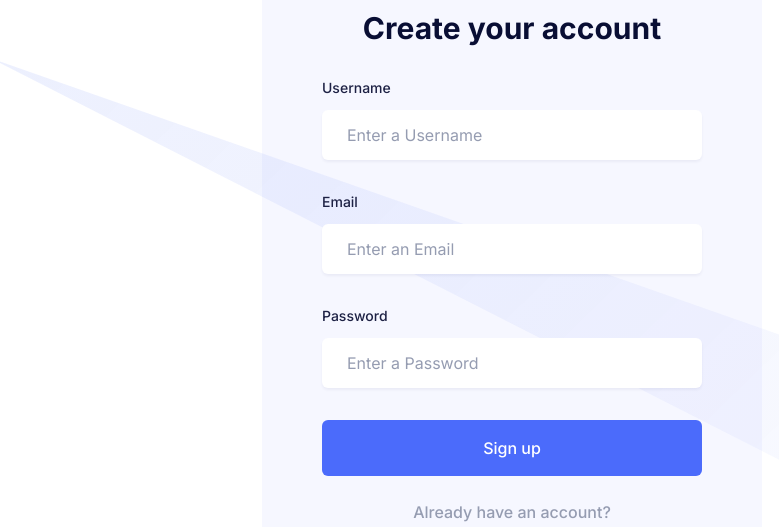
Test: Sign in functionality › Should show error message if one occurs in the signin
This screenshot has width=779, height=527.
Type "testuser" into the field labelled "Username" at (512, 135), box [322,110,702,160]
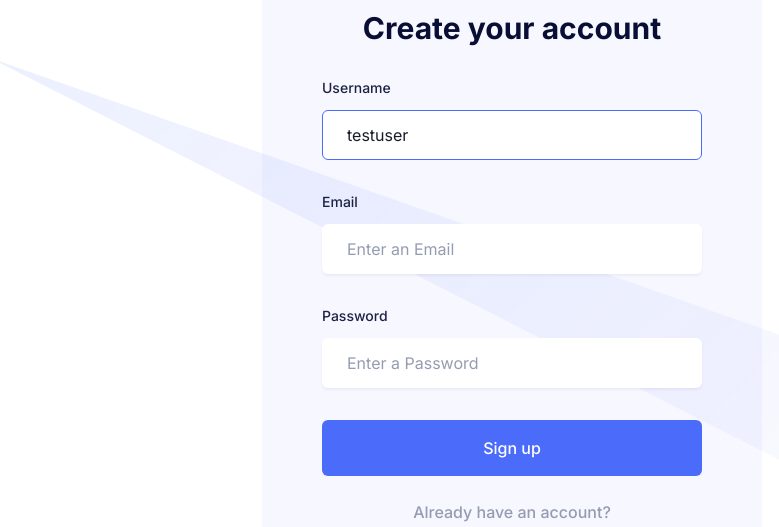
Type "test@gmail.com" into the field labelled "Email" at (512, 249), box [322,224,702,274]
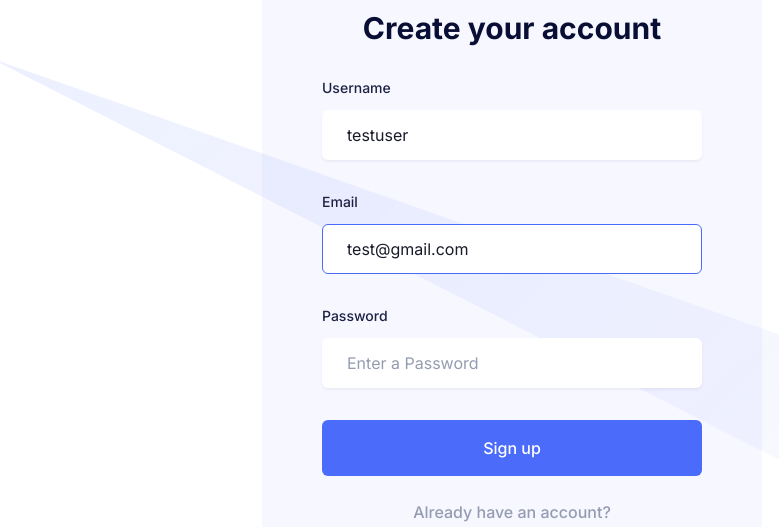
Type "password" into the password field labelled "Password" at (512, 363), box [322,338,702,388]
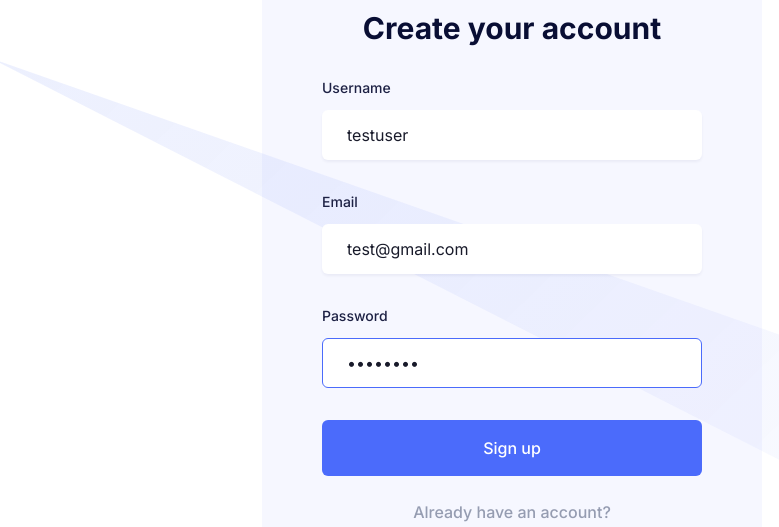
Click the button at (512, 448), box [322,420,702,476]
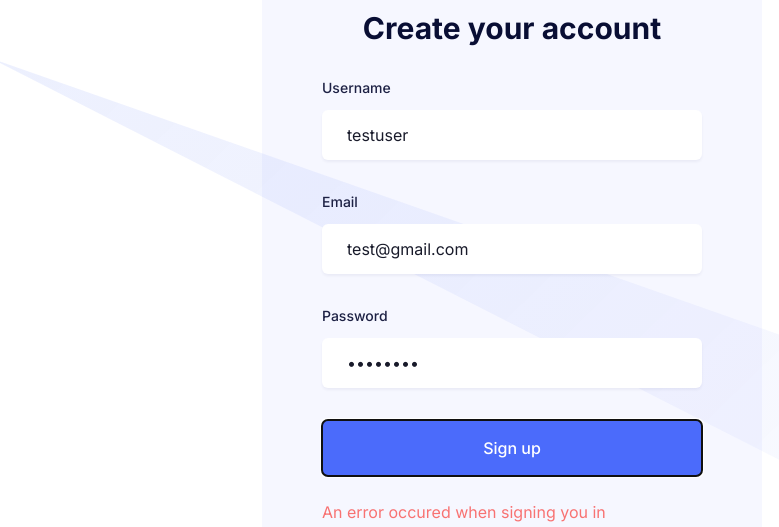
Check: the text "An error occured when signing you in" is shown, box [322,502,606,522]
